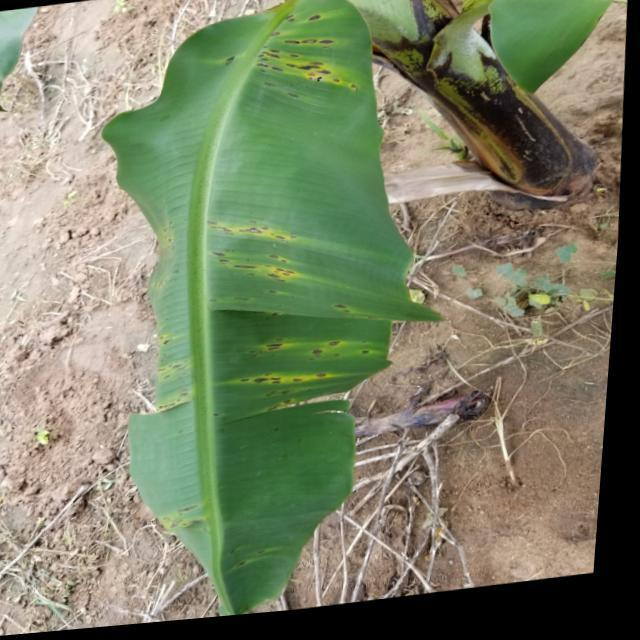Early_rust: (169, 198, 411, 411), (200, 0, 376, 107), (151, 483, 212, 543)
